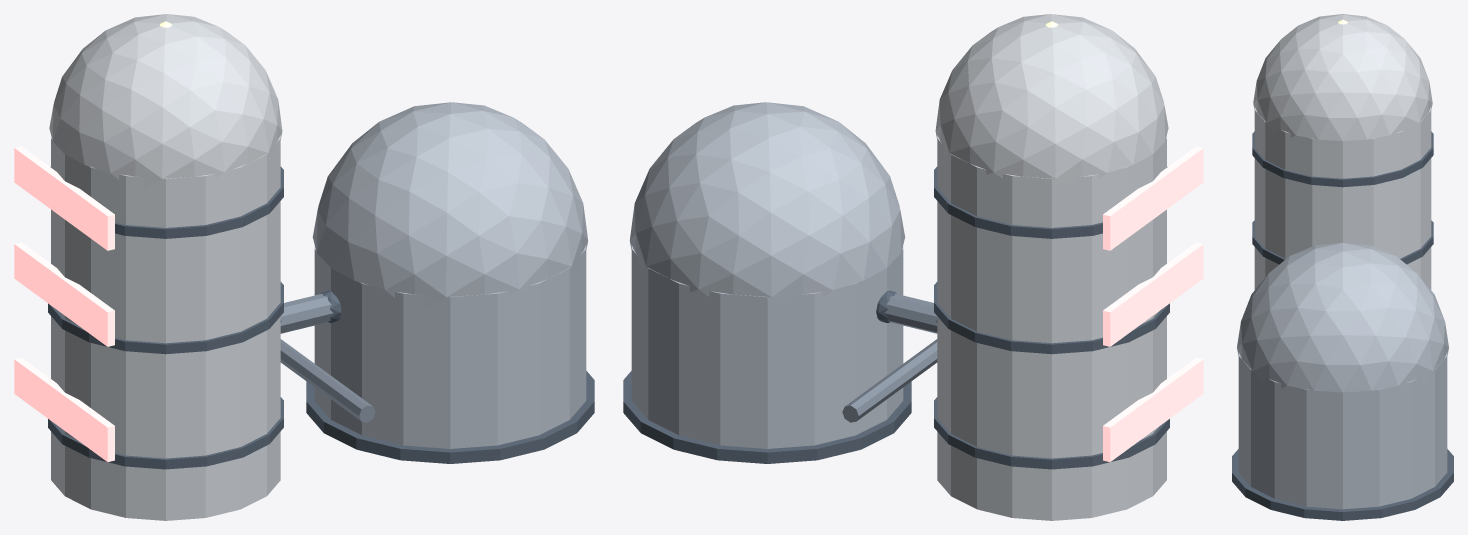
The model's file is isru.glb.
3 renders of one model, left to right at view 1: azimuth 30°, elevation 25°; view 2: azimuth 150°, elevation 25°; view 3: azimuth 270°, elevation 25°, orthographic. The views are drawn at different scales.
Visible parts, largest first — view 1: reactor_shell, tank_dome, tank_body, reactor_cap, tank_base, glow_slot_1.55, glow_slot_1.05, glow_slot_0.45, ring_0.3, ring_0.9, front_bypass_pipe, ring_1.5 (+1 smaller); view 2: reactor_shell, tank_dome, tank_body, reactor_cap, tank_base, glow_slot_1.55, glow_slot_1.05, glow_slot_0.45, ring_0.3, ring_0.9, front_bypass_pipe, ring_1.5 (+1 smaller); view 3: tank_dome, tank_body, reactor_shell, reactor_cap, tank_base, ring_1.5, ring_0.9.
Part boxes in pixels (bbox=[...]): reactor_shell: bbox=[51, 135, 280, 520]; tank_dome: bbox=[312, 102, 588, 308]; tank_body: bbox=[314, 245, 586, 448]; reactor_cap: bbox=[49, 14, 282, 188]; tank_base: bbox=[306, 371, 594, 463]; glow_slot_1.55: bbox=[14, 146, 114, 250]; glow_slot_1.05: bbox=[14, 242, 114, 346]; glow_slot_0.45: bbox=[14, 357, 114, 461]; ring_0.3: bbox=[48, 397, 283, 469]; ring_0.9: bbox=[48, 282, 283, 354]; front_bypass_pipe: bbox=[280, 339, 375, 422]; ring_1.5: bbox=[50, 166, 283, 238]; reactor_shell: bbox=[937, 135, 1166, 520]; tank_dome: bbox=[629, 102, 905, 308]; tank_body: bbox=[631, 245, 903, 448]; reactor_cap: bbox=[935, 14, 1168, 188]; tank_base: bbox=[623, 371, 911, 463]; glow_slot_1.55: bbox=[1103, 146, 1203, 250]; glow_slot_1.05: bbox=[1103, 242, 1203, 346]; glow_slot_0.45: bbox=[1103, 357, 1203, 461]; ring_0.3: bbox=[934, 397, 1169, 469]; ring_0.9: bbox=[934, 282, 1169, 354]; front_bypass_pipe: bbox=[842, 339, 937, 422]; ring_1.5: bbox=[934, 166, 1167, 238]; tank_dome: bbox=[1237, 242, 1448, 392]; tank_body: bbox=[1238, 352, 1447, 509]; reactor_shell: bbox=[1254, 107, 1431, 289]; reactor_cap: bbox=[1253, 14, 1432, 140]; tank_base: bbox=[1232, 449, 1453, 520]; ring_1.5: bbox=[1252, 131, 1433, 187]; ring_0.9: bbox=[1252, 220, 1433, 264].
Size of the model in its own units: 2.81 by 2.35 by 1.36.
